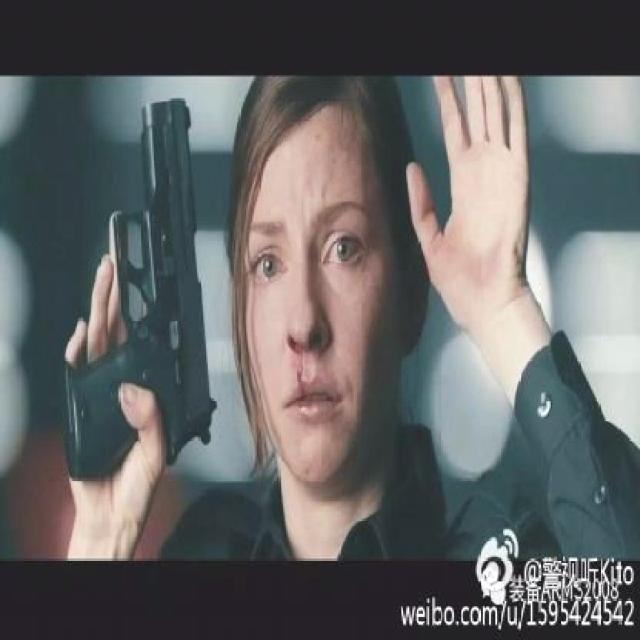face_nomask: (216, 151, 390, 471)
hand_noglove: (403, 74, 537, 351), (63, 202, 166, 540)
head_nohelmet: (228, 72, 395, 143)
person: (22, 29, 629, 577)
